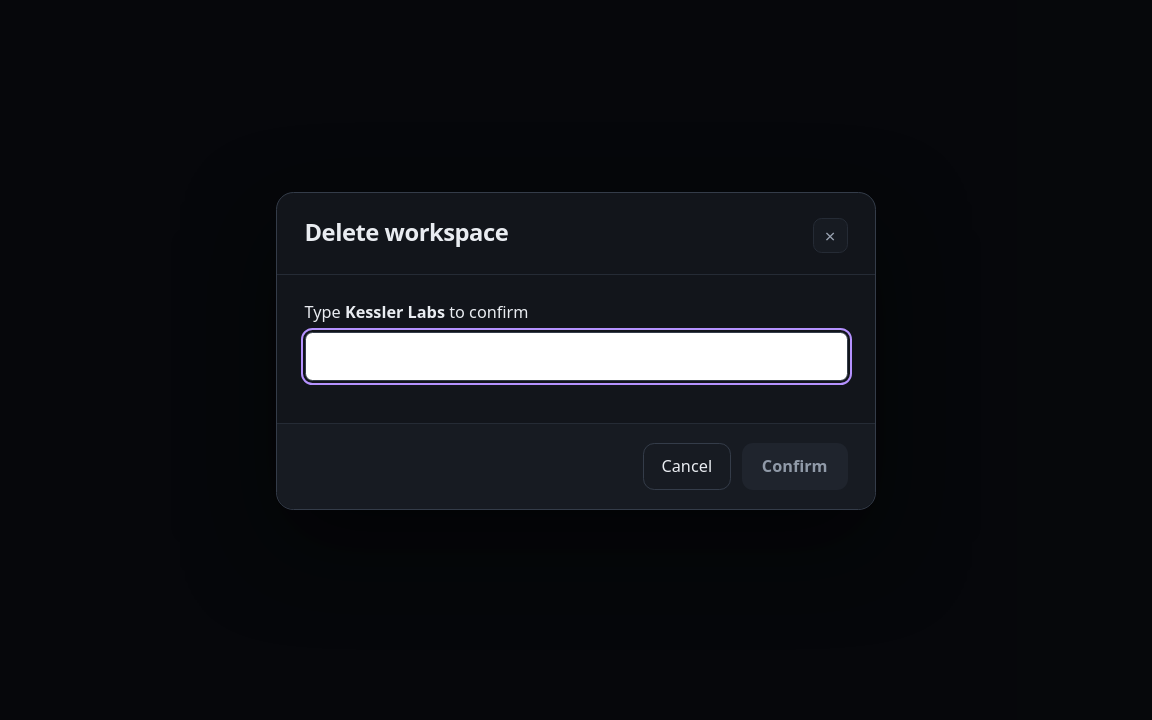
Test: confirmation gates › stays disabled until the name matches exactly
Expected: the button "Confirm" is disabled, [742,443,848,490]
Step 1. Type "kessler labs" into the field labelled "Type Kessler Labs to confirm" → [576, 356], box [304,332,848,381]
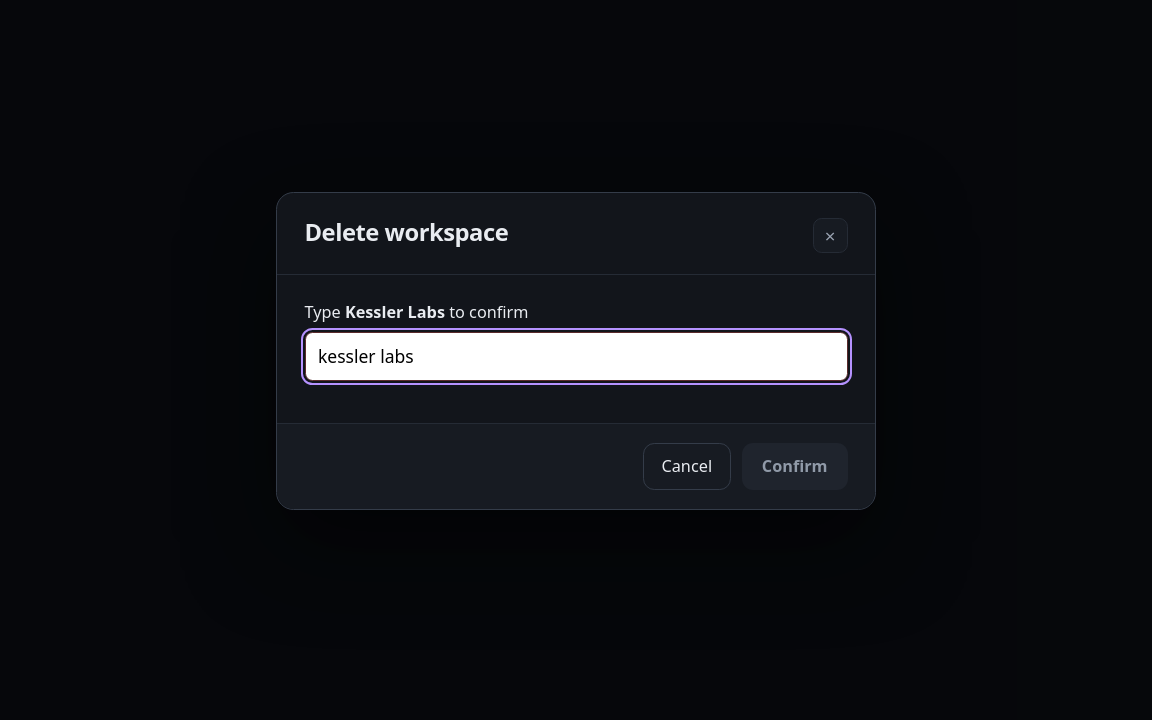
Expected: the button "Confirm" is disabled, [742,443,848,490]
Step 2. Replace the text in the field labelled "Type Kessler Labs to confirm" with "Kessler Labs" → [576, 356], box [304,332,848,381]
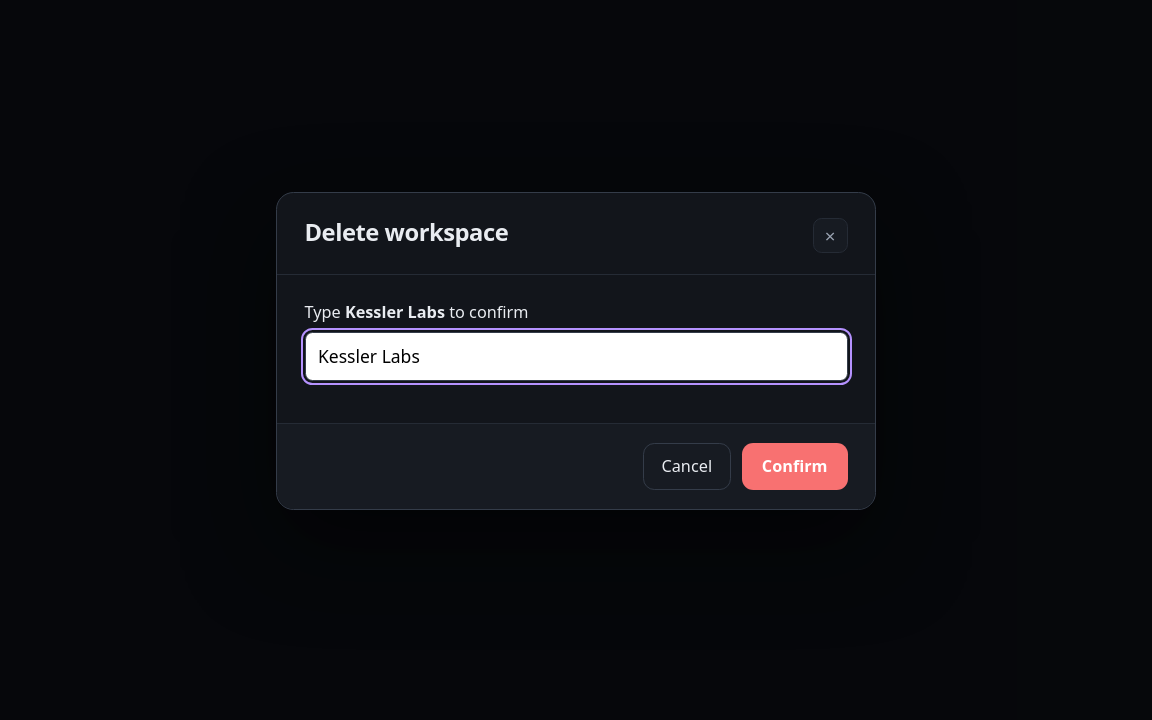
Expected: the button "Confirm" is enabled, [742,443,848,490]
